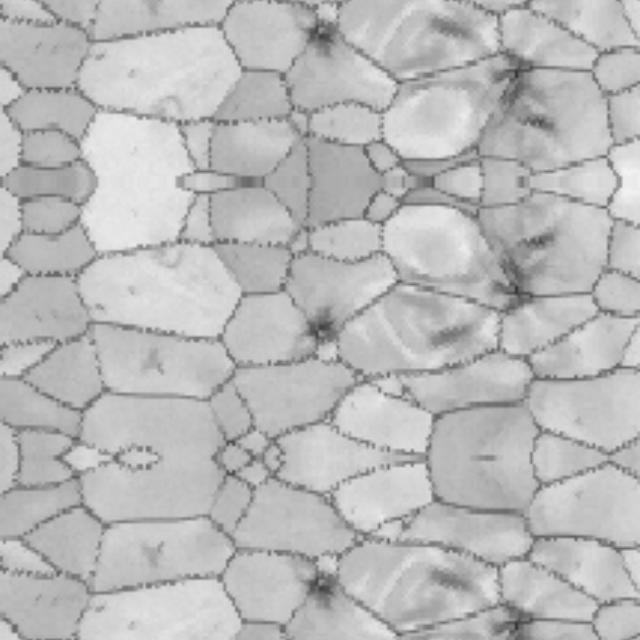good_void: (474, 44, 558, 135), (474, 230, 558, 320), (301, 300, 348, 357), (301, 561, 348, 618), (301, 7, 348, 64), (481, 598, 538, 640), (432, 326, 477, 349), (432, 569, 477, 592), (432, 16, 477, 39), (141, 346, 167, 376), (141, 542, 167, 572), (142, 0, 164, 19), (123, 286, 138, 298), (123, 620, 138, 632), (123, 66, 138, 78), (95, 302, 107, 311), (95, 607, 107, 616), (95, 54, 107, 62)
